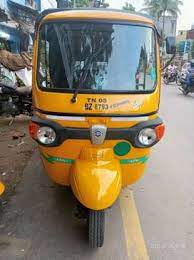auto: (26, 5, 179, 252)
